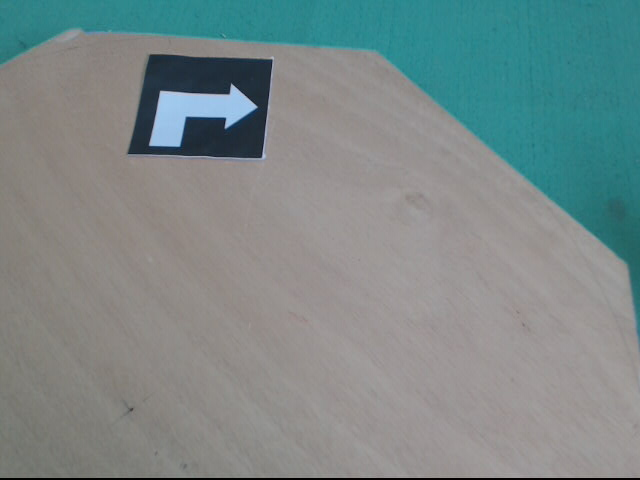right: (128, 52, 277, 157)
